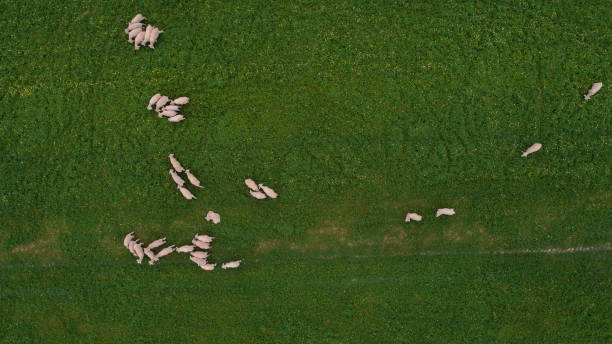sheep: (583, 77, 607, 104), (187, 236, 215, 253), (522, 139, 545, 159), (169, 152, 189, 175), (152, 243, 177, 260), (200, 205, 223, 223), (220, 256, 248, 270), (259, 182, 282, 199), (147, 235, 167, 254), (242, 175, 264, 192), (188, 166, 204, 189), (121, 230, 136, 253), (247, 188, 271, 202), (402, 212, 427, 225), (129, 31, 147, 49), (177, 183, 194, 202), (436, 205, 457, 220), (176, 243, 197, 257), (133, 243, 146, 265), (150, 27, 162, 49), (170, 94, 193, 105), (144, 24, 155, 46), (168, 169, 181, 187), (196, 232, 217, 243), (145, 247, 158, 264), (142, 93, 159, 106), (168, 113, 188, 124), (128, 237, 140, 255), (127, 13, 146, 23), (156, 97, 171, 109), (192, 256, 208, 267), (157, 110, 178, 117), (163, 105, 179, 114), (129, 27, 141, 39), (128, 20, 139, 31)
